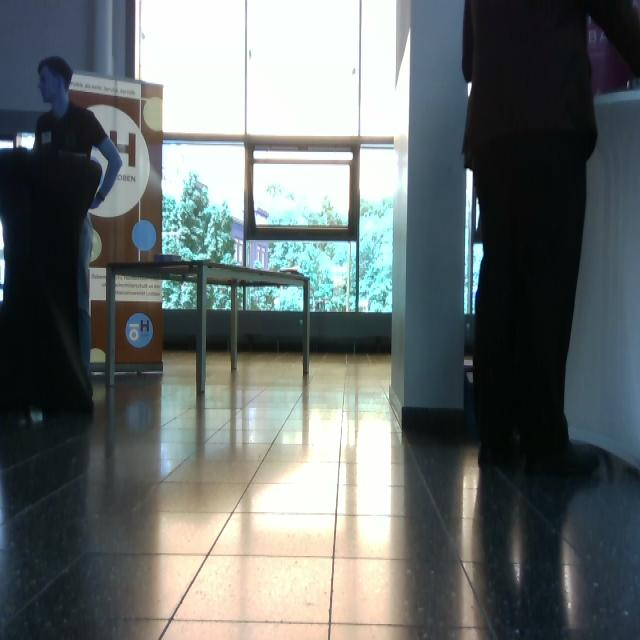light bulb: (132, 220, 157, 252), (90, 229, 103, 264)
person: (461, 1, 640, 477), (31, 56, 123, 404)
pillar: (391, 1, 469, 426)
table: (104, 256, 314, 398)
tiled floor: (2, 348, 639, 638)
window: (134, 1, 398, 317)
